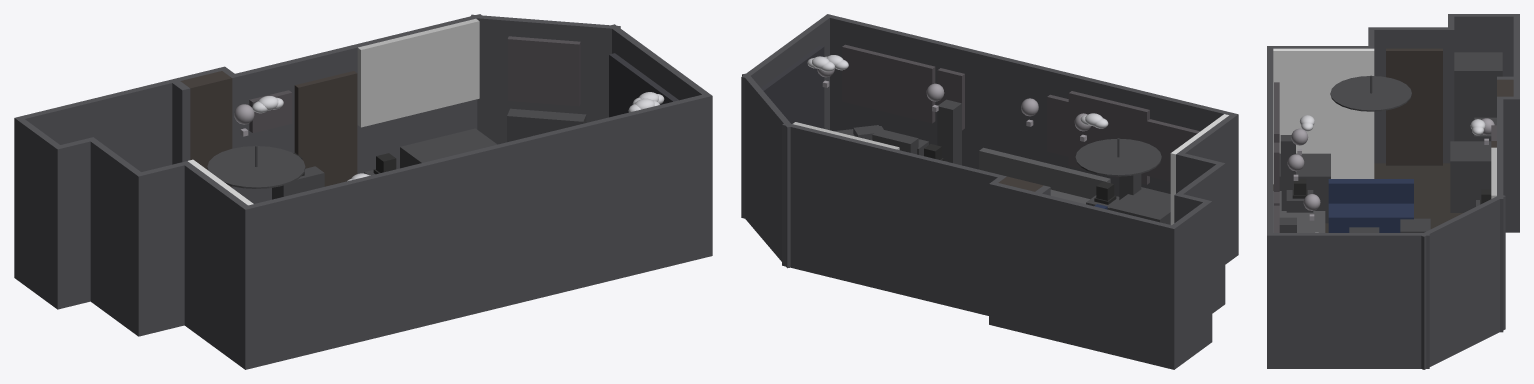
File: ney_room_v2.glb
3 views of the same model, side by side, from view 1: azimuth 30°, elevation 25°; view 2: azimuth 150°, elevation 25°; view 3: azimuth 270°, elevation 25° (orthographic). The views are drawn at different scales.
Visible parts, largest first — view 1: Wall 10, Wall 11, Wall 7, Projection screen, Wall 1, Wall 8, Wall 12, Wall 13, Wall 15, Bedroom door, Wall 14, Happiness Project flag (+9 smaller); view 2: Wall 7, Wall 1, Wall 10, Wall 5, Wall 8, Wall 15, Wall 11, Gray couch, Sliding glass door, Art wall, Coexist flag, Mac Miller tapestry (+15 smaller); view 3: Wall 9, Wall 8, Mirrored closet, Front door, Blue couch, Wall 13, Fridge, Floor, Kitchen counter, Wall 15, Ceiling fan, Wall 6 (+20 smaller).
Part boxes in pixels (box(x1,y1,x2,y2)): Wall 10: box(242, 94, 712, 369); Wall 11: box(181, 161, 251, 369); Wall 7: box(232, 14, 483, 203); Projection screen: box(357, 18, 479, 127); Wall 1: box(14, 79, 176, 280); Wall 8: box(470, 14, 620, 144); Wall 12: box(134, 161, 190, 336); Wall 13: box(89, 137, 144, 334); Wall 15: box(18, 119, 63, 308); Bedroom door: box(294, 71, 357, 186); Wall 14: box(54, 137, 93, 309); Happiness Project flag: box(507, 36, 580, 106); Wall 7: box(782, 122, 1004, 315); Wall 1: box(1033, 192, 1177, 369); Wall 10: box(825, 15, 1238, 247); Wall 5: box(989, 181, 1037, 336); Wall 8: box(742, 73, 792, 268); Wall 15: box(1168, 200, 1211, 369); Wall 11: box(1176, 113, 1238, 264); Gray couch: box(979, 147, 1110, 204); Sliding glass door: box(761, 45, 824, 128); Art wall: box(880, 54, 935, 123); Coexist flag: box(842, 44, 906, 116); Mac Miller tapestry: box(1068, 91, 1149, 184); Wall 9: box(1267, 233, 1429, 368); Wall 8: box(1420, 195, 1505, 369); Mirrored closet: box(1273, 48, 1374, 184); Front door: box(1386, 48, 1442, 165); Blue couch: box(1328, 179, 1413, 232); Wall 13: box(1369, 27, 1454, 163); Fridge: box(1454, 52, 1502, 141); Floor: box(1273, 163, 1462, 232); Kitchen counter: box(1450, 141, 1491, 212); Wall 15: box(1448, 14, 1519, 76); Ceiling fan: box(1330, 75, 1411, 111); Wall 6: box(1497, 96, 1519, 232).
Bounding box in the file's own units: 8.47 × 2.36 × 4.06.
